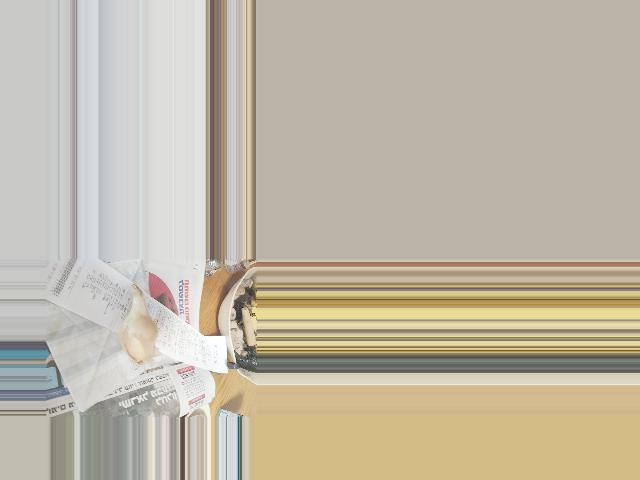onion: (119, 307, 155, 362)
